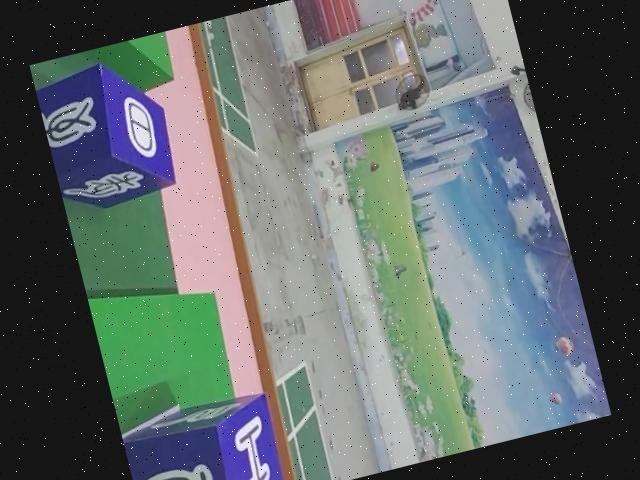R2 Fake Blue: (32, 49, 183, 215), (117, 384, 289, 480)
